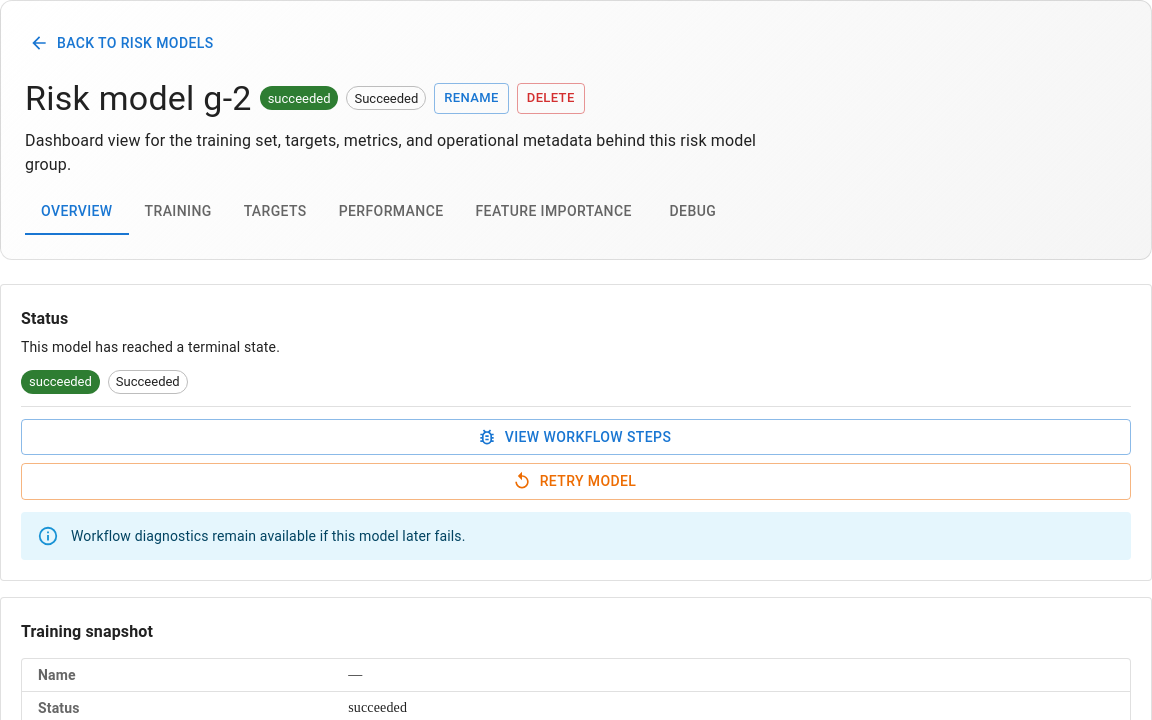
Scenario: RiskModelDetailPage › opens the workflow steps modal from the page action
Expected: the heading "Risk model g-2" is shown, [25, 78, 252, 120]
Step 1. Click the button "View workflow steps" → (576, 437), box [21, 418, 1131, 455]
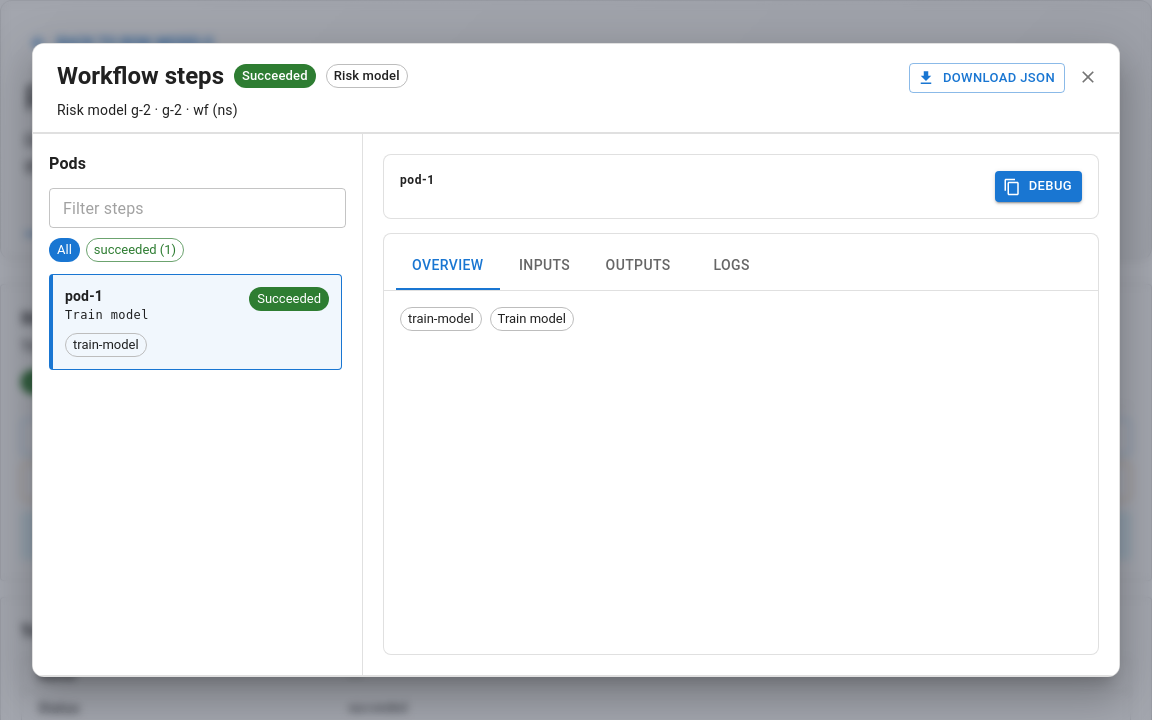
Expected: the text "Workflow steps" is shown, [57, 60, 224, 92]
Step 2. Click the tab "Logs" → (732, 266), box [687, 242, 777, 290]
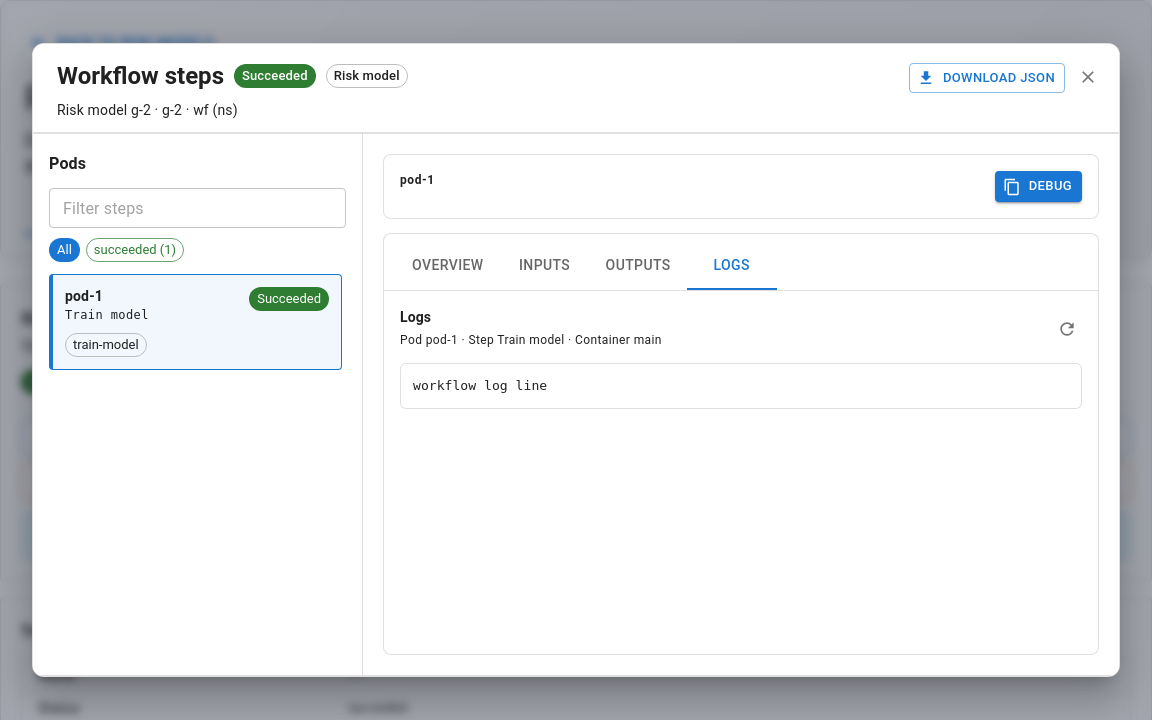
Expected: the text "Train model" is shown, [65, 306, 149, 326]
Expected: the text "workflow log line" is shown, [400, 363, 1082, 409]
